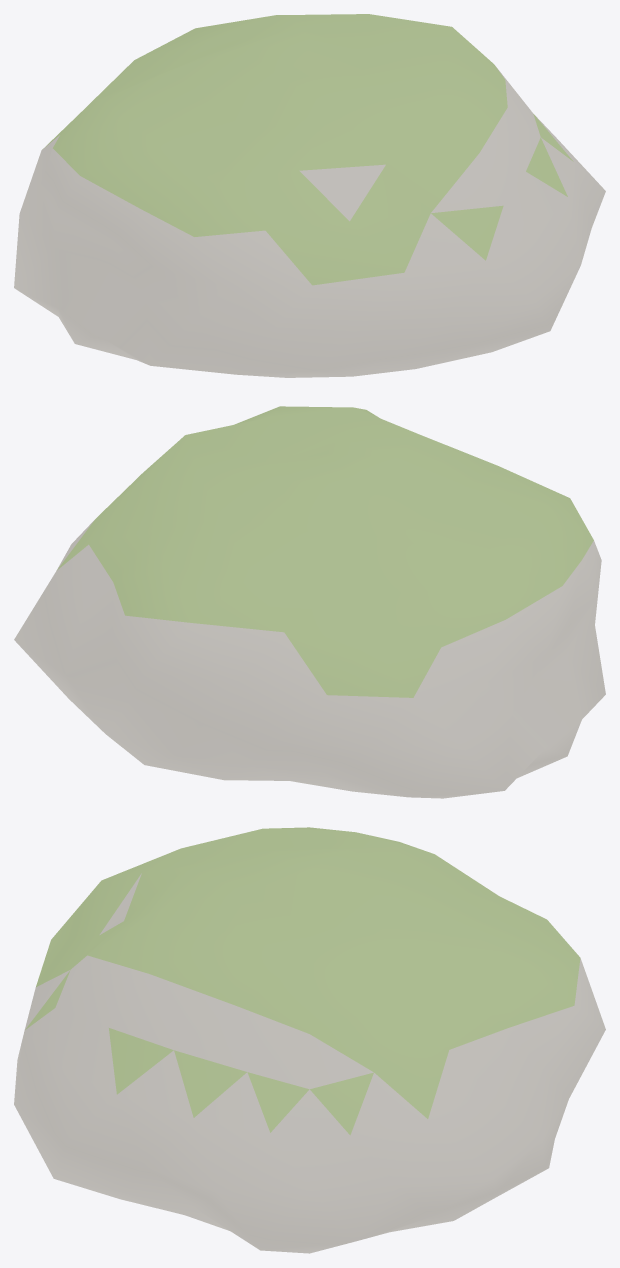
Rendered from Blender_BoulderRound_2.glb.
3 views of the same model, one above another, from view 1: azimuth 30°, elevation 25°; view 2: azimuth 150°, elevation 25°; view 3: azimuth 270°, elevation 25° (orthographic). The views are drawn at different scales.
Parts seen in each view (by area): view 1: Blender_BoulderRound_2; view 2: Blender_BoulderRound_2; view 3: Blender_BoulderRound_2.
Part boxes in pixels (x1,y1,x2,y2): Blender_BoulderRound_2: (14, 14, 605, 377); Blender_BoulderRound_2: (14, 406, 605, 798); Blender_BoulderRound_2: (14, 827, 605, 1253).
Size of the model in its own units: 2.29 by 1.15 by 2.21.
